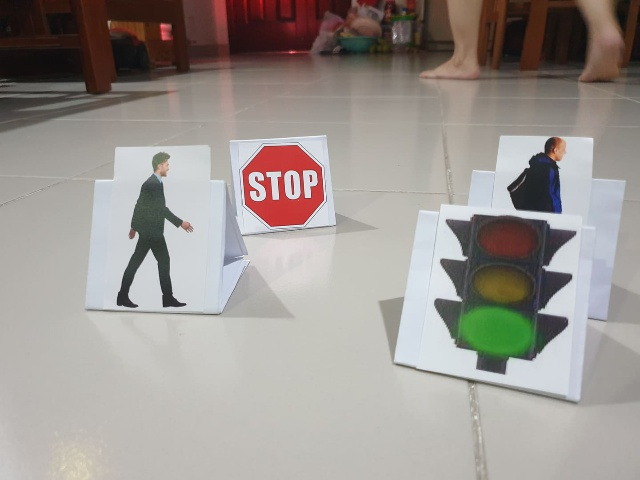Green: (439, 206, 574, 383)
Person: (111, 148, 198, 309), (500, 132, 591, 210)
Stop: (234, 142, 330, 227)
